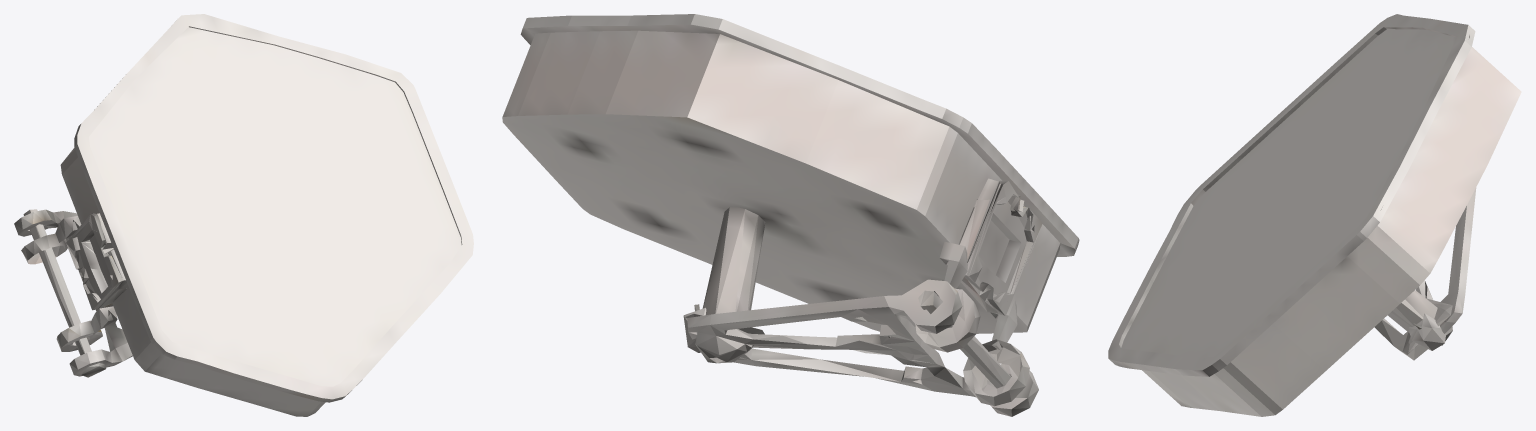
The model's file is HGA_EL.gltf.
3 views of the same model, side by side, from view 1: azimuth 30°, elevation 25°; view 2: azimuth 150°, elevation 25°; view 3: azimuth 270°, elevation 25° (orthographic). The views are drawn at different scales.
Parts seen in each view (by area): view 1: Mesh_0; view 2: Mesh_0; view 3: Mesh_0.
Part boxes in pixels (bbox=[...]): Mesh_0: bbox=[14, 14, 473, 416]; Mesh_0: bbox=[502, 14, 1079, 416]; Mesh_0: bbox=[1108, 14, 1521, 416].
Size of the model in its own units: 0.2946 by 0.2485 by 0.2485.
Materials: 1 (1 with a texture image).
